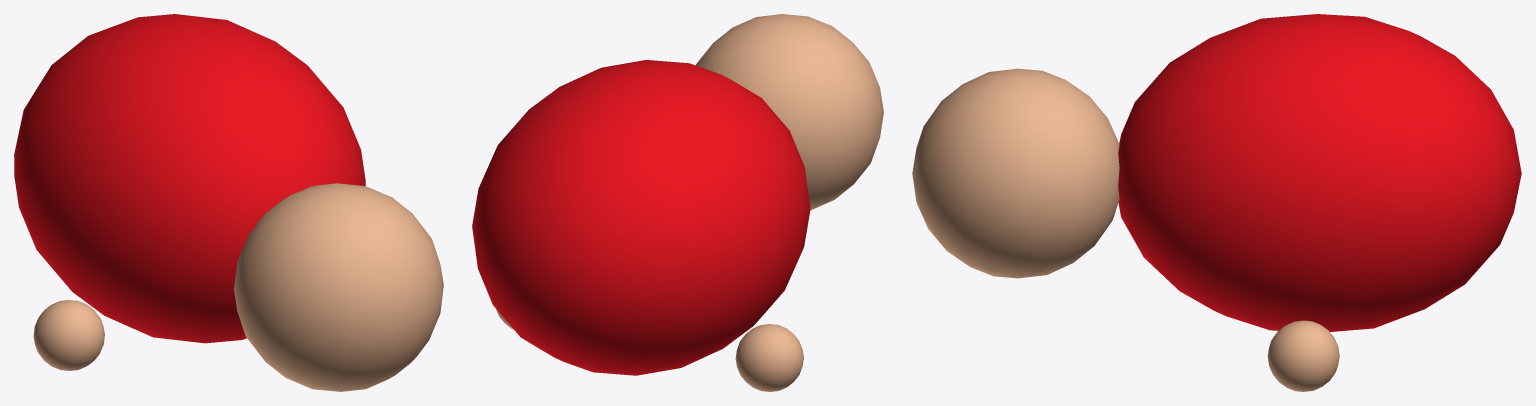
File: worker_red.glb
3 views of the same model, side by side, from view 1: azimuth 30°, elevation 25°; view 2: azimuth 150°, elevation 25°; view 3: azimuth 270°, elevation 25° (orthographic). The views are drawn at different scales.
Parts seen in each view (by area): view 1: Icosphere.008, Icosphere.007, Icosphere.006; view 2: Icosphere.008, Icosphere.007, Icosphere.006; view 3: Icosphere.008, Icosphere.007, Icosphere.005.
Boxes of the visible parts, bbox=[...] form: Icosphere.008: bbox=[14, 14, 365, 343]; Icosphere.007: bbox=[234, 183, 443, 391]; Icosphere.006: bbox=[33, 300, 104, 370]; Icosphere.008: bbox=[472, 60, 810, 375]; Icosphere.007: bbox=[695, 14, 883, 210]; Icosphere.006: bbox=[735, 324, 803, 391]; Icosphere.008: bbox=[1118, 14, 1521, 331]; Icosphere.007: bbox=[912, 68, 1119, 278]; Icosphere.005: bbox=[1267, 320, 1339, 391].
Size of the model in its own units: 0.2668 by 0.2405 by 0.4449.
